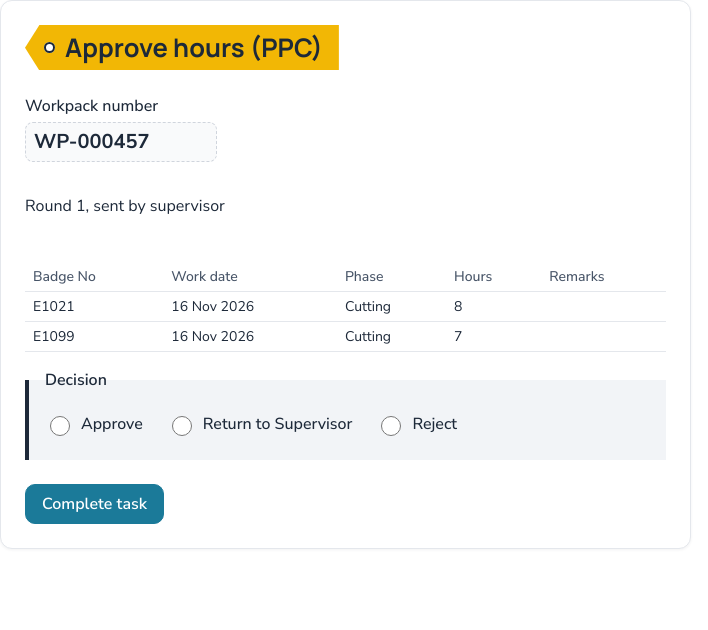
it: ApproveHoursPpc › BPA57_theEarlierDeciderRefusalIsShown
Expected: the text "E1021" is shown, [25,292,163,322]
Click the radio button labelled "Approve". click: x=60, y=426
box: [50,416,70,436]
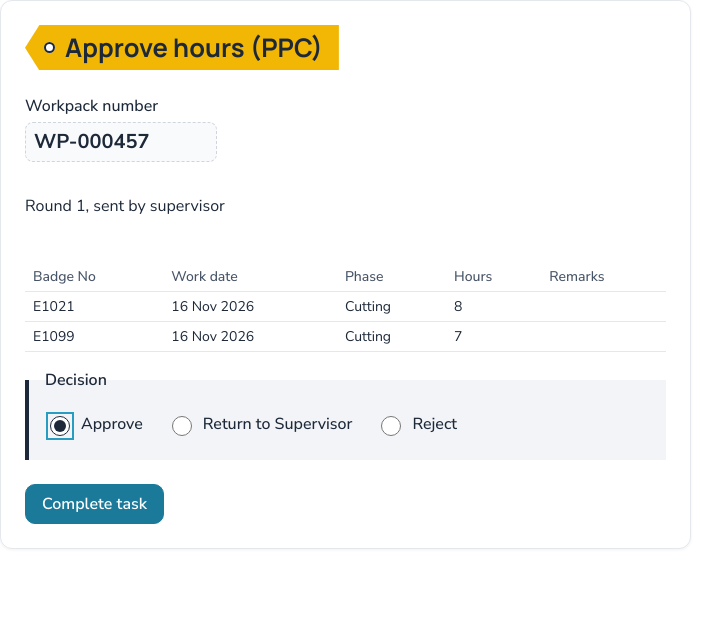
Click the button "Complete task". click: x=94, y=504
box: [25,484,164,524]
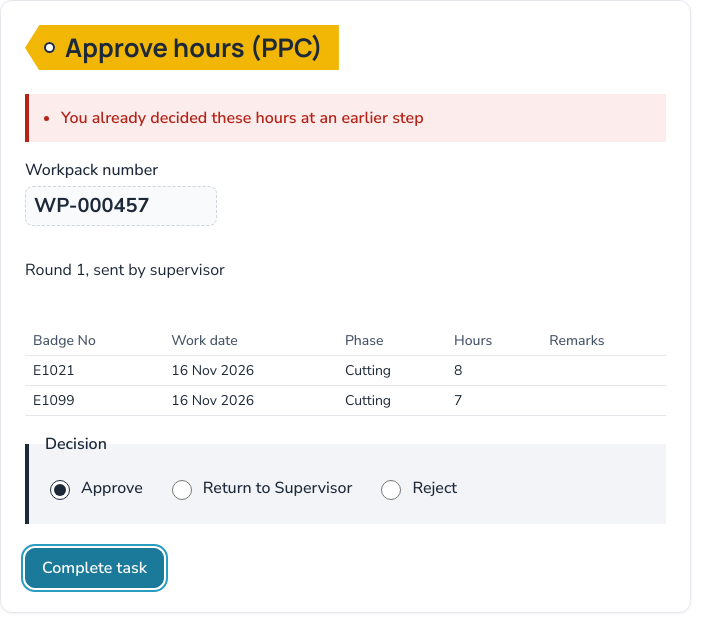
Result: the list item "You already decided these hours at an earlier step" is shown at [61,107,424,129]
